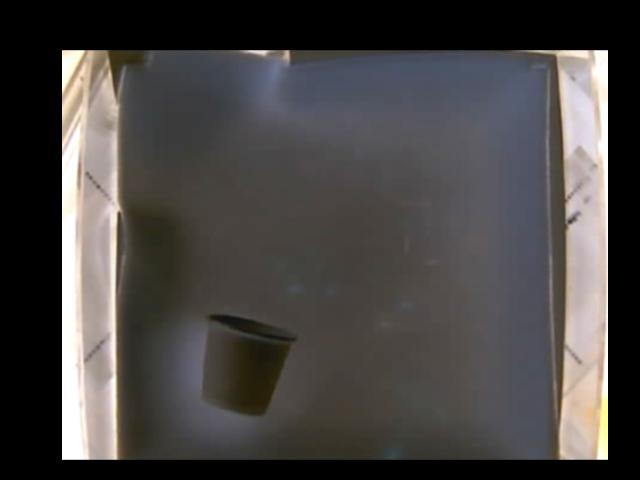Cup: (197, 313, 298, 415)
